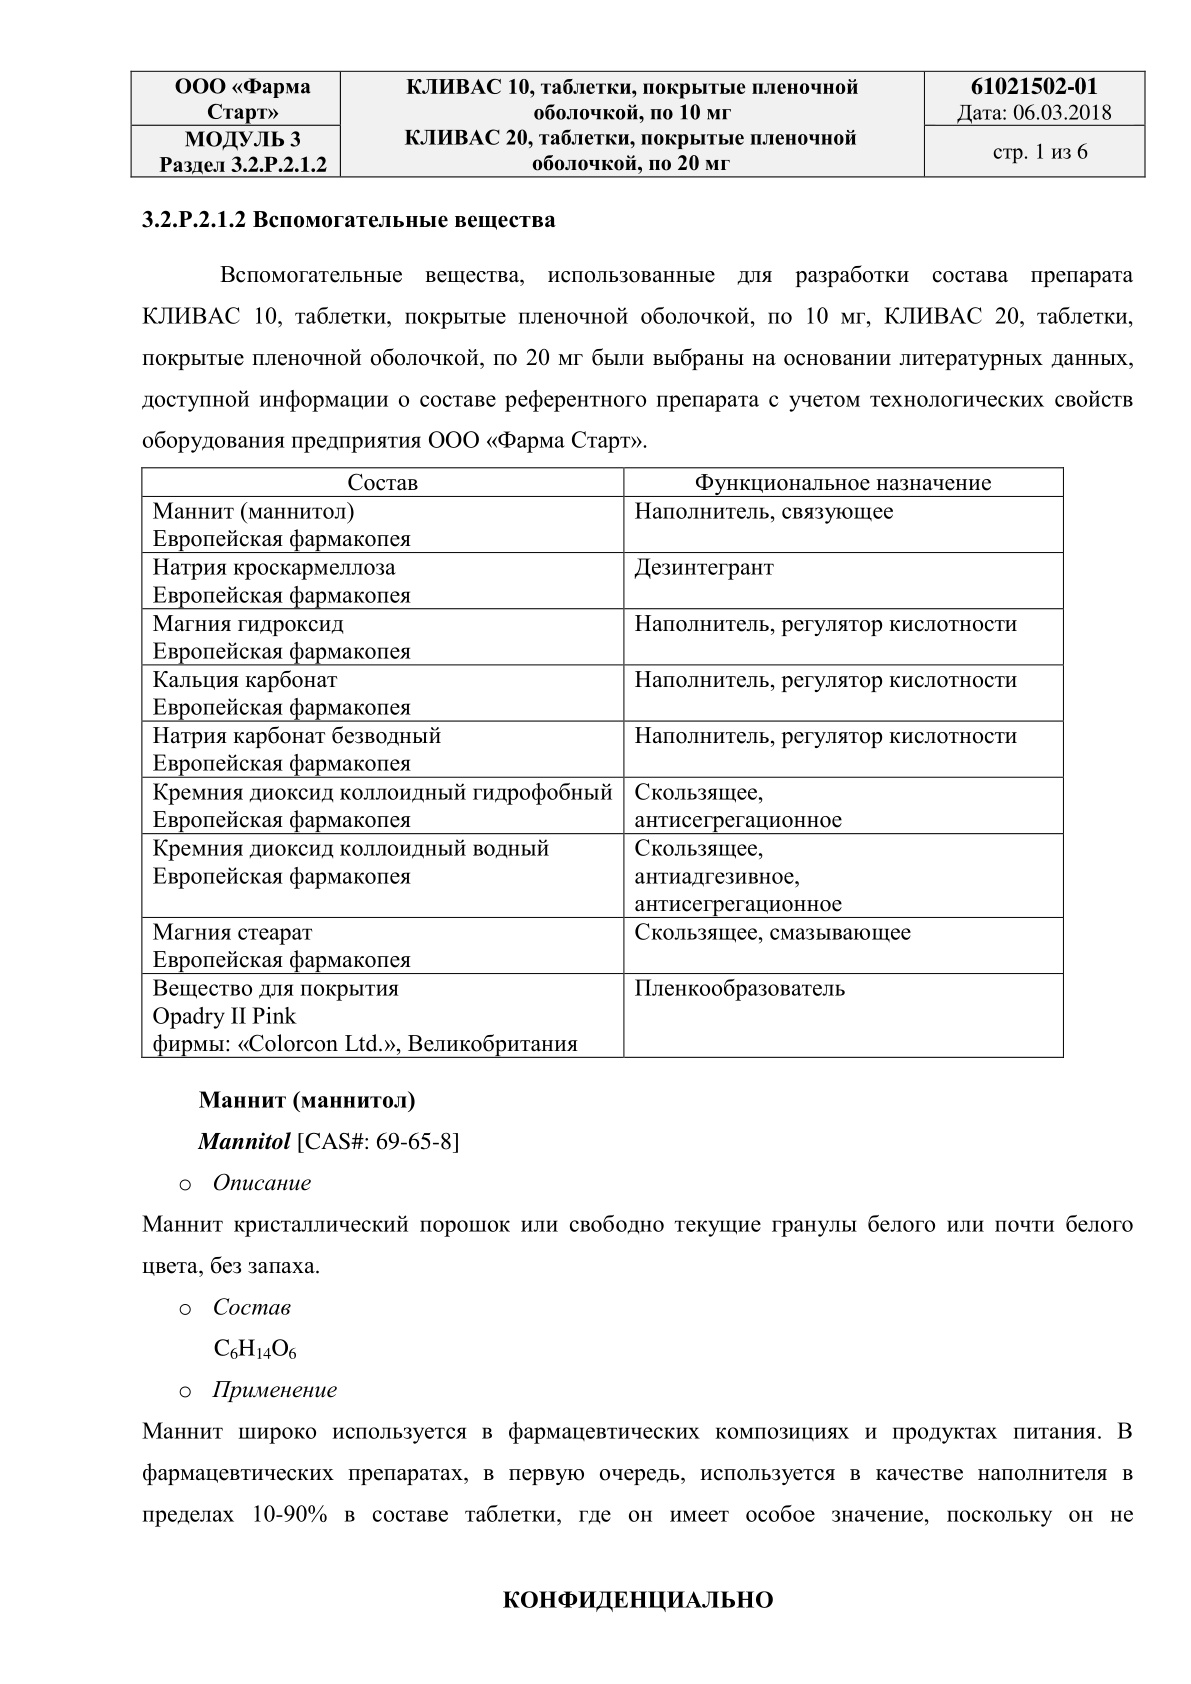full_lined: (139, 465, 1066, 1059)
merged_cells: (129, 68, 1147, 180)
